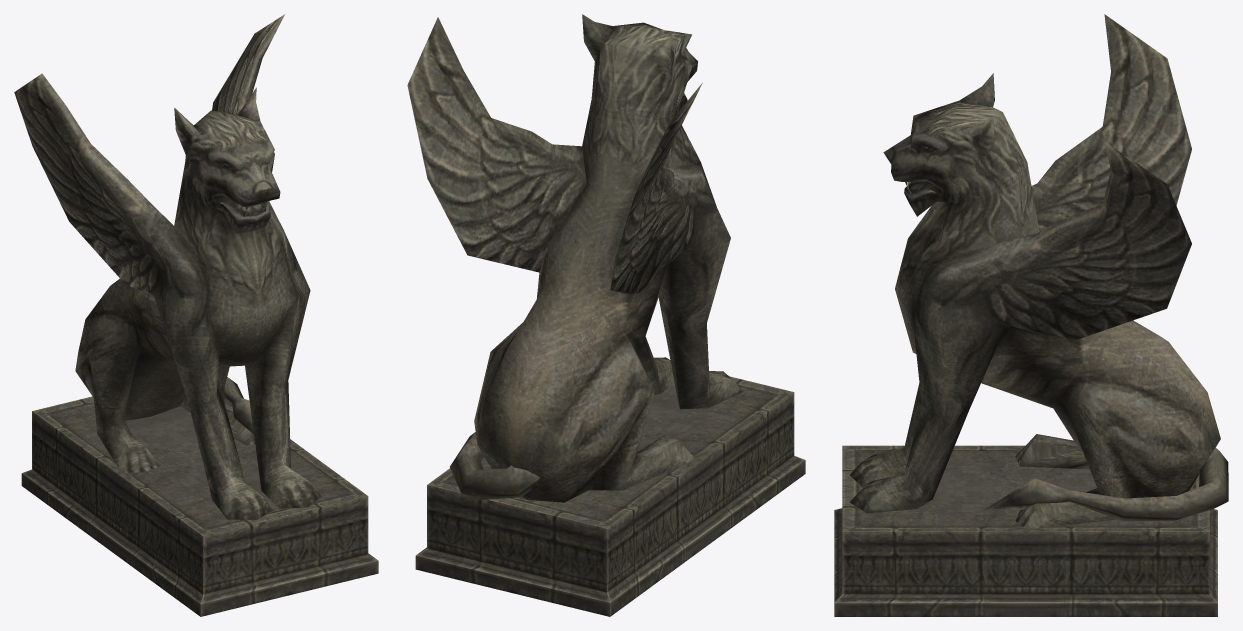
Rendered from Statue06_a.FBX.
3 views of the same model, side by side, from view 1: azimuth 30°, elevation 25°; view 2: azimuth 150°, elevation 25°; view 3: azimuth 270°, elevation 25° (orthographic). The views are drawn at different scales.
Visible parts, largest first — view 1: Statue06_a; view 2: Statue06_a; view 3: Statue06_a.
Boxes of the visible parts, x1,y1,x2,y2 form: Statue06_a: (14,14,378,616); Statue06_a: (407,14,805,616); Statue06_a: (834,14,1228,616).
Size of the model in its own units: 117 by 211 by 153.
